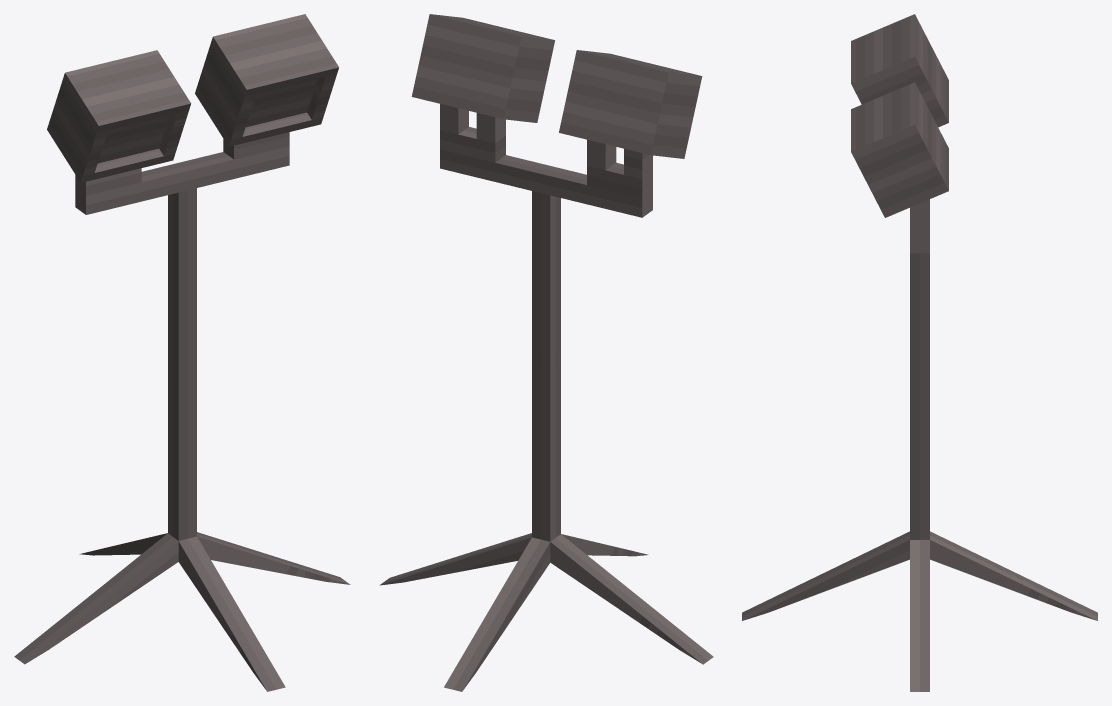
Rendered from ContructionLight.obj.
3 renders of one model, left to right at view 1: azimuth 30°, elevation 25°; view 2: azimuth 150°, elevation 25°; view 3: azimuth 270°, elevation 25°, orthographic. The views are drawn at different scales.
Visible parts, largest first — view 1: cuboid; view 2: cuboid; view 3: cuboid.
Part boxes in pixels (bbox=[...]): cuboid: bbox=[14, 14, 350, 691]; cuboid: bbox=[379, 14, 713, 691]; cuboid: bbox=[742, 14, 1097, 691].
Size of the model in its own units: 1.1 by 1.87 by 1.1.
Materials: 1 (1 with a texture image).
